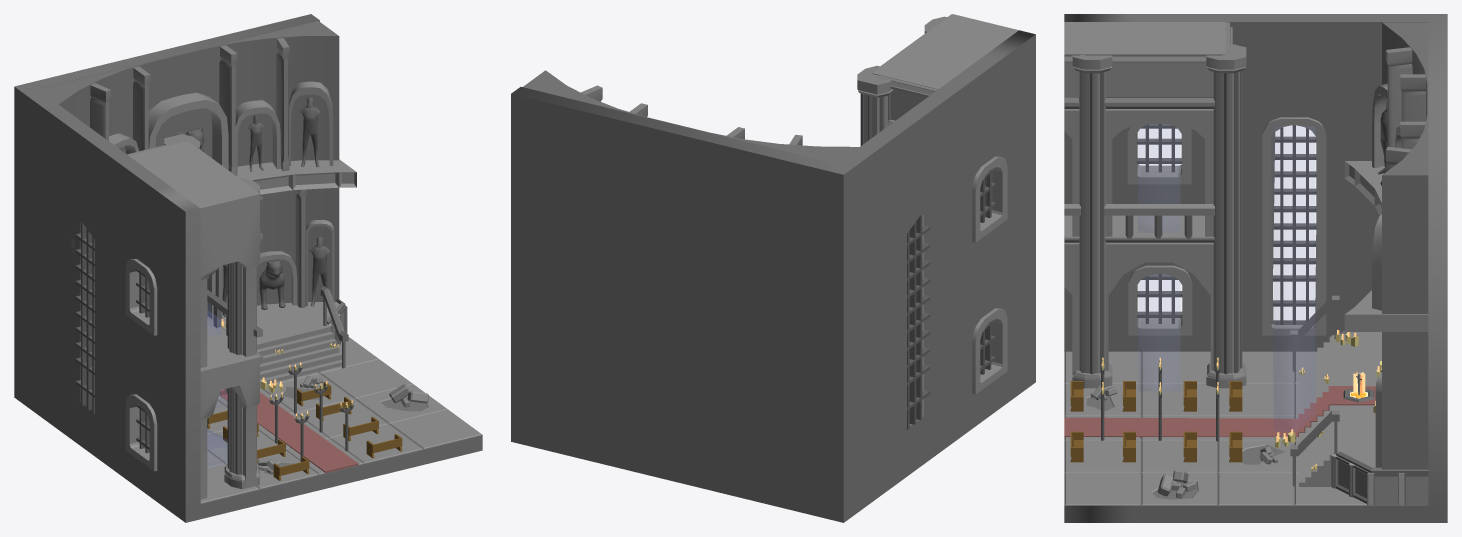
The picture shows the model from 3 angles, left to right: view 1: azimuth 30°, elevation 25°; view 2: azimuth 150°, elevation 25°; view 3: azimuth 270°, elevation 25°; orthographic projection. The views are drawn at different scales.
Parts seen in each view (by area): view 1: pCube1, pPlane4, pCube89, pPlane3, pCube81, pCube165, pCube194, pCube64, pCube72, pPlane5, pCylinder55, pCube184 (+23 smaller); view 2: pCube1, pCube72, pCube184, pPlane4, pCube191, pCube192, pCylinder56, pCube89, pCylinder35, pCube165, pCube124; view 3: pCube1, pCube72, pPlane12, pCube81, pPlane4, pCylinder56, pCylinder55, pPlane3, pCube190, pCube65, pPlane1, pCube184 (+41 smaller).
Part boxes in pixels (left/top/right/bottom): pCube1: left=14, top=14, right=482, bottom=522; pPlane4: left=38, top=21, right=339, bottom=166; pCube89: left=187, top=184, right=259, bottom=367; pPlane3: left=222, top=187, right=339, bottom=305; pCube81: left=219, top=302, right=344, bottom=395; pCube165: left=90, top=38, right=289, bottom=176; pCube194: left=109, top=81, right=333, bottom=173; pCube64: left=200, top=352, right=259, bottom=499; pCube72: left=129, top=141, right=246, bottom=198; pPlane5: left=70, top=159, right=356, bottom=255; pCylinder55: left=227, top=261, right=256, bottom=474; pCube184: left=75, top=223, right=94, bottom=413; pCube1: left=511, top=30, right=1035, bottom=522; pCube72: left=872, top=25, right=1003, bottom=120; pCube184: left=907, top=215, right=930, bottom=429; pPlane4: left=523, top=70, right=858, bottom=163; pCube191: left=972, top=156, right=1007, bottom=242; pCube192: left=972, top=308, right=1007, bottom=394; pCylinder56: left=860, top=93, right=890, bottom=145; pCube89: left=938, top=14, right=1018, bottom=40; pCylinder35: left=857, top=65, right=893, bottom=97; pCube165: left=581, top=85, right=802, bottom=145; pCube124: left=872, top=14, right=951, bottom=97; pCube1: left=1064, top=14, right=1447, bottom=522; pCube72: left=1093, top=22, right=1225, bottom=236; pPlane12: left=1274, top=126, right=1314, bottom=430; pCube81: left=1299, top=332, right=1428, bottom=505; pPlane4: left=1382, top=22, right=1428, bottom=313; pCylinder56: left=1213, top=71, right=1242, bottom=374; pCylinder55: left=1079, top=71, right=1105, bottom=374; pPlane3: left=1382, top=332, right=1428, bottom=469; pCube190: left=1262, top=117, right=1326, bottom=335; pCube65: left=1106, top=215, right=1213, bottom=370; pPlane1: left=1064, top=386, right=1375, bottom=437; pCube184: left=1273, top=125, right=1316, bottom=324.
Size of the model in its own units: 50.54 by 50 by 50.
